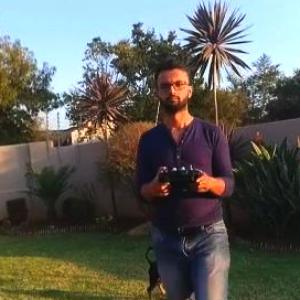follow: (137, 57, 239, 299)
